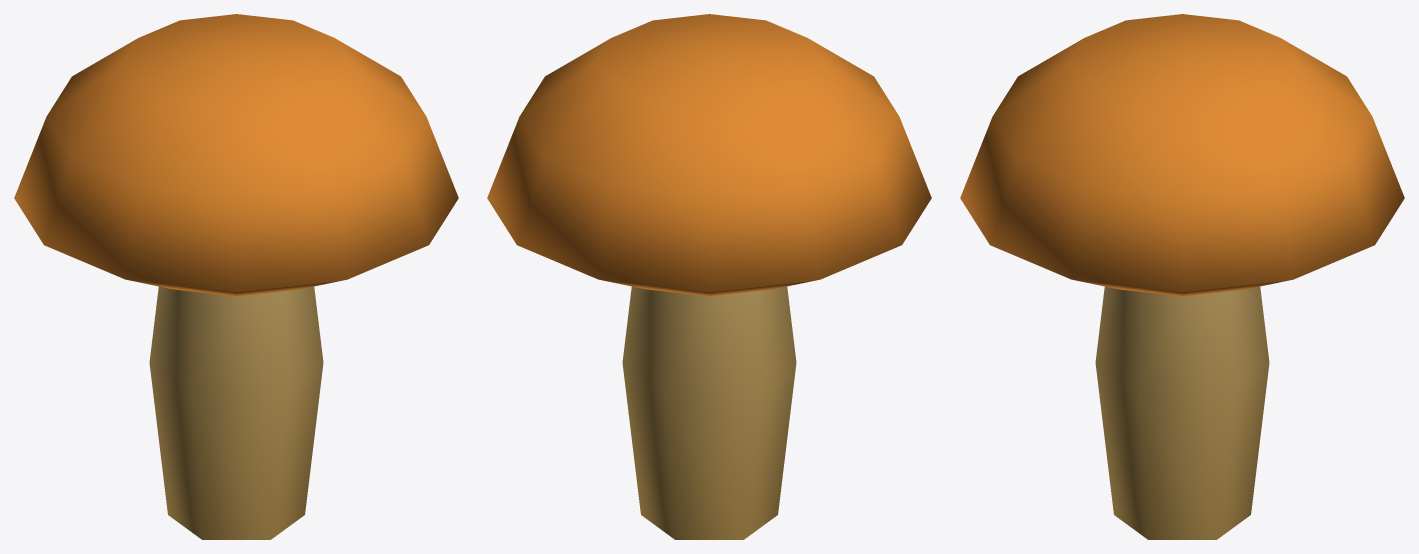
Rendered from Mushroom_03.fbx.
3 renders of one model, left to right at view 1: azimuth 30°, elevation 25°; view 2: azimuth 150°, elevation 25°; view 3: azimuth 270°, elevation 25°, orthographic.
Parts seen in each view (by area): view 1: Cylinder.057; view 2: Cylinder.057; view 3: Cylinder.057.
Boxes of the visible parts, x1,y1,x2,y2 form: Cylinder.057: (14, 14, 458, 539); Cylinder.057: (487, 14, 931, 539); Cylinder.057: (960, 14, 1404, 539).
Bounding box in the file's own units: 226 × 261 × 226.
